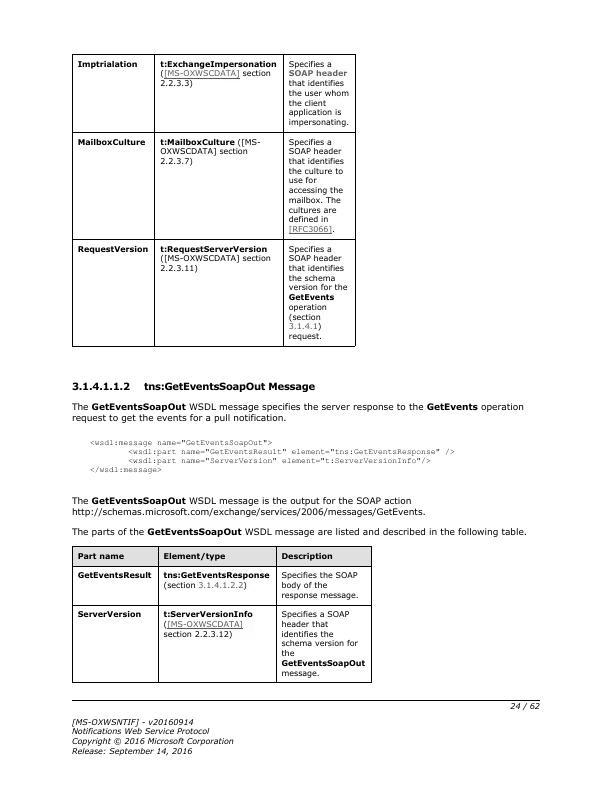table: (72, 54, 362, 350), (68, 543, 379, 686)
text: (85, 436, 456, 479), (70, 400, 528, 423), (71, 493, 426, 519), (71, 715, 234, 757), (67, 526, 527, 539), (70, 378, 321, 394)
